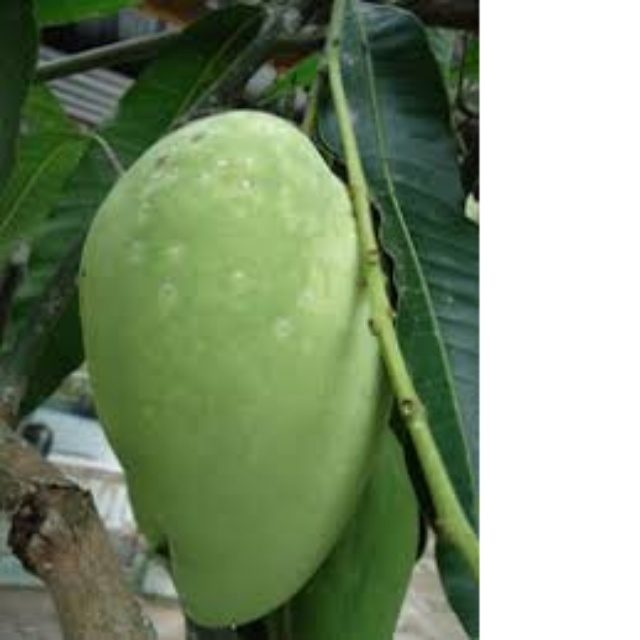thanh_long: (45, 76, 419, 637)
